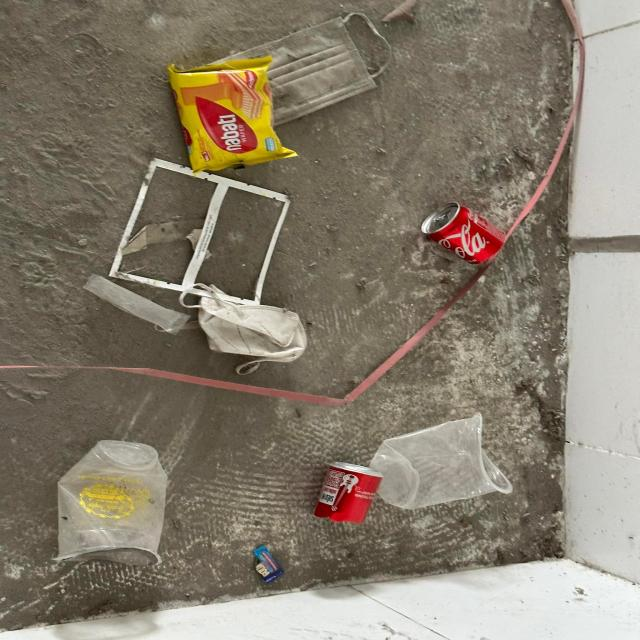can: (421, 202, 507, 264), (312, 461, 382, 525)
mask: (204, 12, 392, 126), (180, 282, 309, 375)
plastic glass: (51, 439, 169, 569), (369, 412, 516, 512)
snack package: (166, 54, 300, 179)
